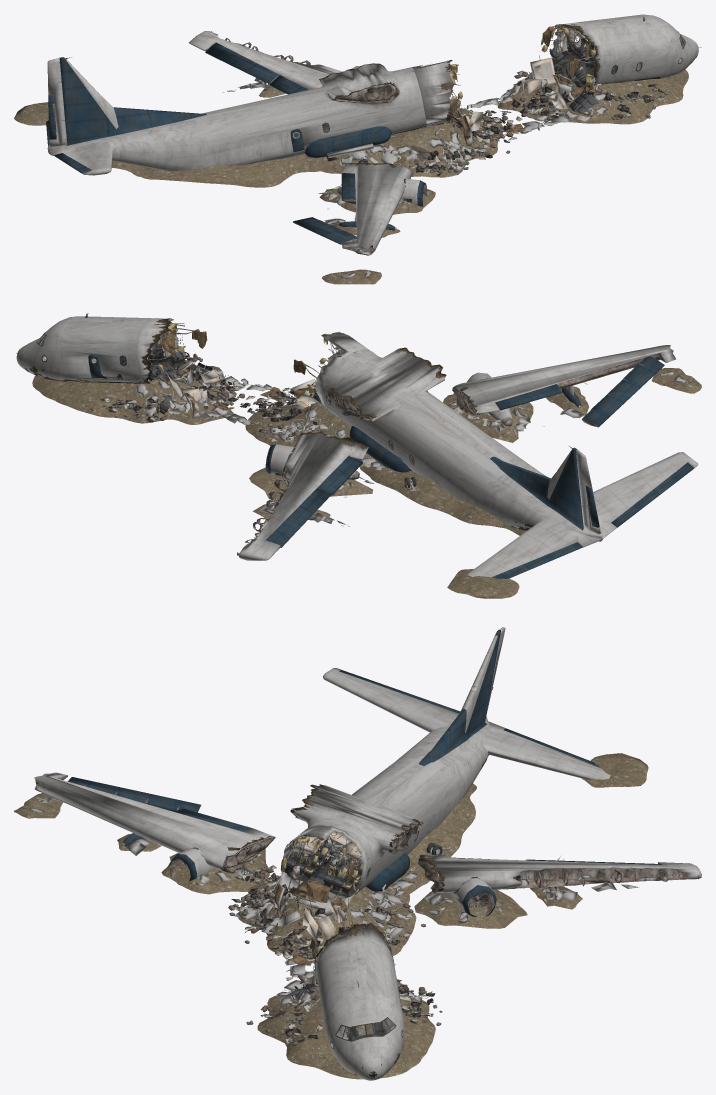
File: cargo_wreck.glb
3 views of the same model, one above another, from view 1: azimuth 30°, elevation 25°; view 2: azimuth 150°, elevation 25°; view 3: azimuth 270°, elevation 25° (orthographic). The views are drawn at different scales.
Visible parts, largest first — view 1: KB3D_WRK_BldgLgAirplaneCrash_A_PartC, KB3D_WRK_BldgLgAirplaneCrash_A_GroundB, KB3D_WRK_BldgLgAirplaneCrash_A_PartB, KB3D_WRK_BldgLgAirplaneCrash_A_GroundA, KB3D_WRK_BldgLgAirplaneCrash_A_PartA, KB3D_WRK_BldgLgAirplaneCrash_A_PartD, KB3D_WRK_BldgLgAirplaneCrash_A_GroundD, KB3D_WRK_BldgLgAirplaneCrash_A_DebrisA, KB3D_WRK_PropAirplaneSeats_B_Main; view 2: KB3D_WRK_BldgLgAirplaneCrash_A_PartC, KB3D_WRK_BldgLgAirplaneCrash_A_PartB, KB3D_WRK_BldgLgAirplaneCrash_A_GroundB, KB3D_WRK_BldgLgAirplaneCrash_A_PartA, KB3D_WRK_BldgLgAirplaneCrash_A_PartD, KB3D_WRK_BldgLgAirplaneCrash_A_GroundA, KB3D_WRK_BldgLgAirplaneCrash_A_GroundD, KB3D_WRK_BldgLgAirplaneCrash_A_GroundC, KB3D_WRK_BldgLgAirplaneCrash_A_DebrisA; view 3: KB3D_WRK_BldgLgAirplaneCrash_A_PartC, KB3D_WRK_BldgLgAirplaneCrash_A_GroundB, KB3D_WRK_BldgLgAirplaneCrash_A_PartB, KB3D_WRK_BldgLgAirplaneCrash_A_PartA, KB3D_WRK_BldgLgAirplaneCrash_A_PartD, KB3D_WRK_BldgLgAirplaneCrash_A_GroundA, KB3D_WRK_BldgLgAirplaneCrash_A_GroundD, KB3D_WRK_BldgLgAirplaneCrash_A_GroundC.
Part boxes in pixels (<box>): KB3D_WRK_BldgLgAirplaneCrash_A_PartC: <box>46,57,476,175</box>; KB3D_WRK_BldgLgAirplaneCrash_A_GroundB: <box>14,101,533,187</box>; KB3D_WRK_BldgLgAirplaneCrash_A_PartB: <box>539,14,701,106</box>; KB3D_WRK_BldgLgAirplaneCrash_A_GroundA: <box>481,63,688,130</box>; KB3D_WRK_BldgLgAirplaneCrash_A_PartA: <box>293,163,427,255</box>; KB3D_WRK_BldgLgAirplaneCrash_A_PartD: <box>189,31,360,96</box>; KB3D_WRK_BldgLgAirplaneCrash_A_GroundD: <box>318,184,435,284</box>; KB3D_WRK_BldgLgAirplaneCrash_A_DebrisA: <box>522,57,569,109</box>; KB3D_WRK_PropAirplaneSeats_B_Main: <box>569,90,598,115</box>; KB3D_WRK_BldgLgAirplaneCrash_A_PartC: <box>287,331,698,578</box>; KB3D_WRK_BldgLgAirplaneCrash_A_PartB: <box>16,313,207,386</box>; KB3D_WRK_BldgLgAirplaneCrash_A_GroundB: <box>237,384,525,598</box>; KB3D_WRK_BldgLgAirplaneCrash_A_PartA: <box>452,345,675,427</box>; KB3D_WRK_BldgLgAirplaneCrash_A_PartD: <box>237,431,368,560</box>; KB3D_WRK_BldgLgAirplaneCrash_A_GroundA: <box>32,346,266,424</box>; KB3D_WRK_BldgLgAirplaneCrash_A_GroundD: <box>443,368,701,442</box>; KB3D_WRK_BldgLgAirplaneCrash_A_GroundC: <box>249,467,374,536</box>; KB3D_WRK_BldgLgAirplaneCrash_A_DebrisA: <box>166,369,220,402</box>; KB3D_WRK_BldgLgAirplaneCrash_A_PartC: <box>274,627,610,931</box>; KB3D_WRK_BldgLgAirplaneCrash_A_GroundB: <box>228,753,648,965</box>; KB3D_WRK_BldgLgAirplaneCrash_A_PartB: <box>297,915,404,1080</box>; KB3D_WRK_BldgLgAirplaneCrash_A_PartA: <box>34,772,275,885</box>; KB3D_WRK_BldgLgAirplaneCrash_A_PartD: <box>418,854,701,916</box>; KB3D_WRK_BldgLgAirplaneCrash_A_GroundA: <box>246,963,442,1079</box>; KB3D_WRK_BldgLgAirplaneCrash_A_GroundD: <box>14,785,276,894</box>; KB3D_WRK_BldgLgAirplaneCrash_A_GroundC: <box>414,855,638,928</box>.
Bounding box in the file's own units: 54.56 × 9.68 × 43.91.
Materials: 27 (27 with a texture image).
